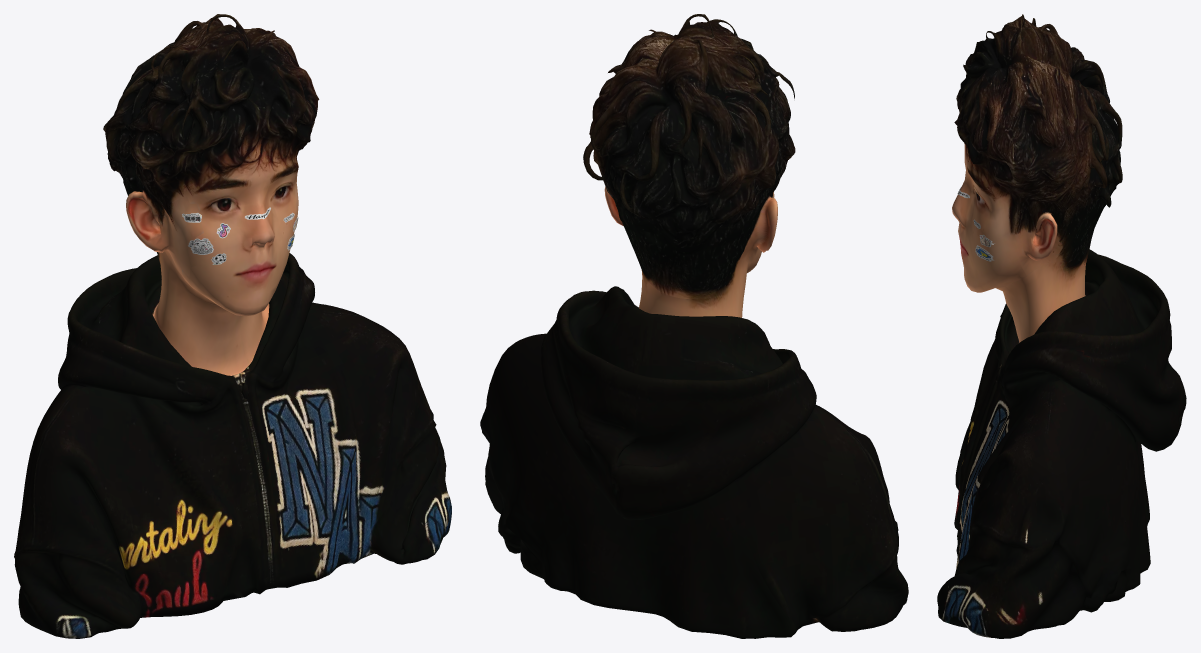
The model's file is harper.glb.
The picture shows the model from 3 angles, left to right: view 1: azimuth 30°, elevation 25°; view 2: azimuth 150°, elevation 25°; view 3: azimuth 270°, elevation 25°; orthographic projection. The views are drawn at different scales.
Visible parts, largest first — view 1: man; view 2: man; view 3: man.
Boxes of the visible parts, <box> form: man: <box>14,14,451,638</box>; man: <box>480,14,908,638</box>; man: <box>937,14,1186,638</box>.
Bounding box in the file's own units: 1.47 × 1.91 × 0.8018.
10 materials, 10 textured.
